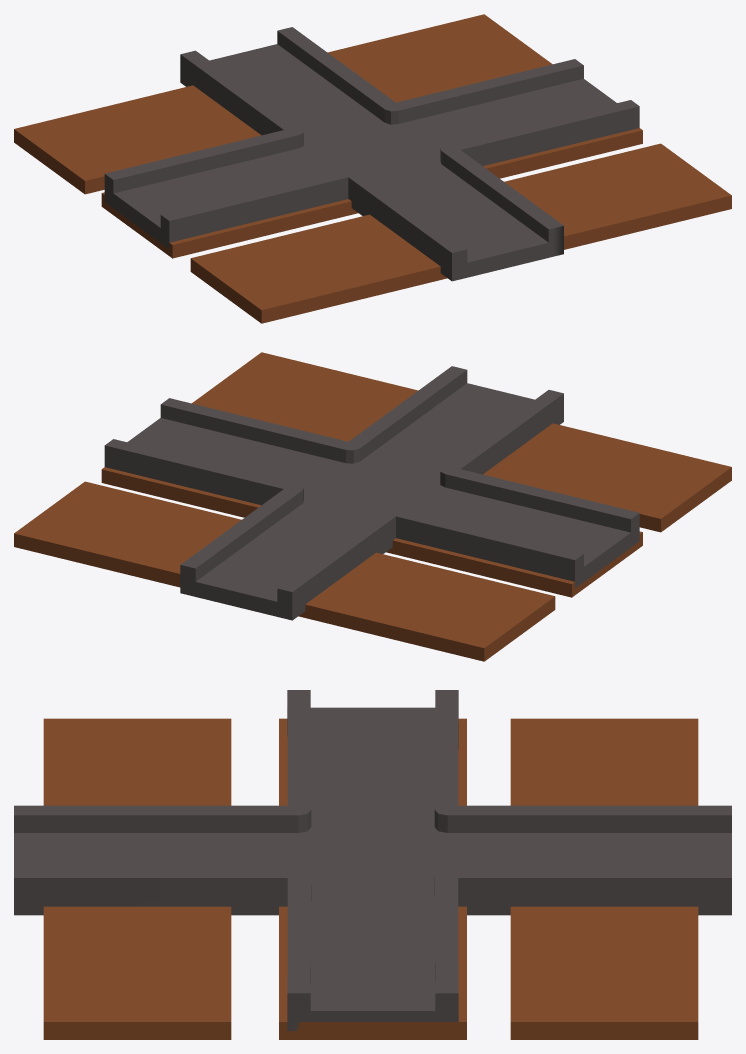
File: Rail_3.fbx
The picture shows the model from 3 angles, top to bottom: view 1: azimuth 30°, elevation 25°; view 2: azimuth 150°, elevation 25°; view 3: azimuth 270°, elevation 25°; orthographic projection. The views are drawn at different scales.
Parts seen in each view (by area): view 1: Road_3, woodbar_9, woodbar_11, woodbar_10; view 2: Road_3, woodbar_11, woodbar_9, woodbar_10; view 3: Road_3, woodbar_11, woodbar_9, woodbar_10.
Boxes of the visible parts, <box> form: Road_3: <box>104,27,639,281</box>; woodbar_9: <box>190,143,731,323</box>; woodbar_11: <box>14,14,552,194</box>; woodbar_10: <box>101,128,642,258</box>; Road_3: <box>104,366,639,620</box>; woodbar_11: <box>14,481,555,661</box>; woodbar_9: <box>192,352,731,532</box>; woodbar_10: <box>101,467,642,597</box>; Road_3: <box>14,690,731,1030</box>; woodbar_11: <box>510,718,698,1039</box>; woodbar_9: <box>43,718,231,1039</box>; woodbar_10: <box>279,718,466,1039</box>.
Bounding box in the file's own units: 100 × 7.15 × 100.
1 material, 1 textured.
